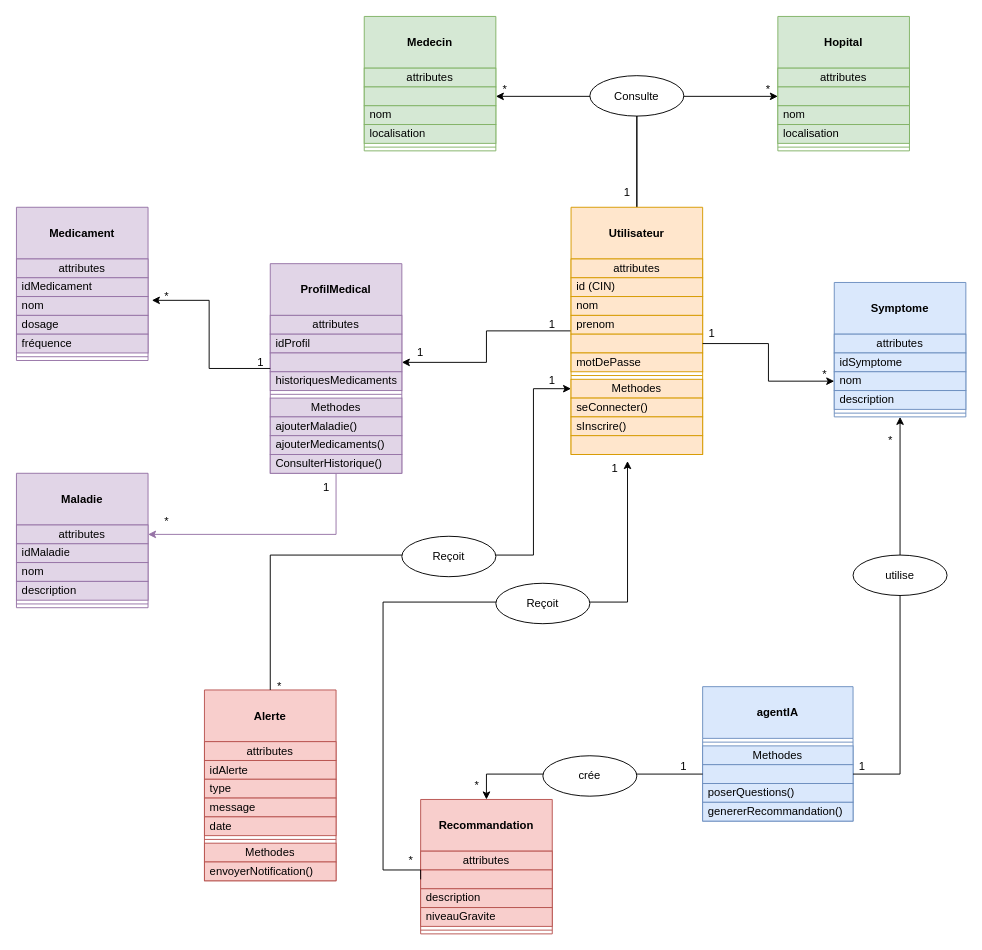
Some shapes in this 982 by 950 pixel diagram are drawn without their labels. Here are the shapes that lost their labels. From the top down, the centre of each, then its label:
At [429,96]: "idMedecin".
At [843,96]: "idHopital".
At [335,362]: "historiqueMaladies".
At [636,343]: "dateNaissance".
At [636,444]: "mettreAJourProfil()".
At [777,773]: "analyserSymptomes()".
At [486,879]: "idReco".
